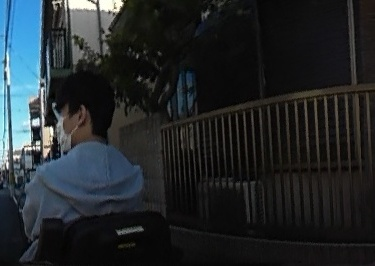person: (21, 70, 151, 266)
